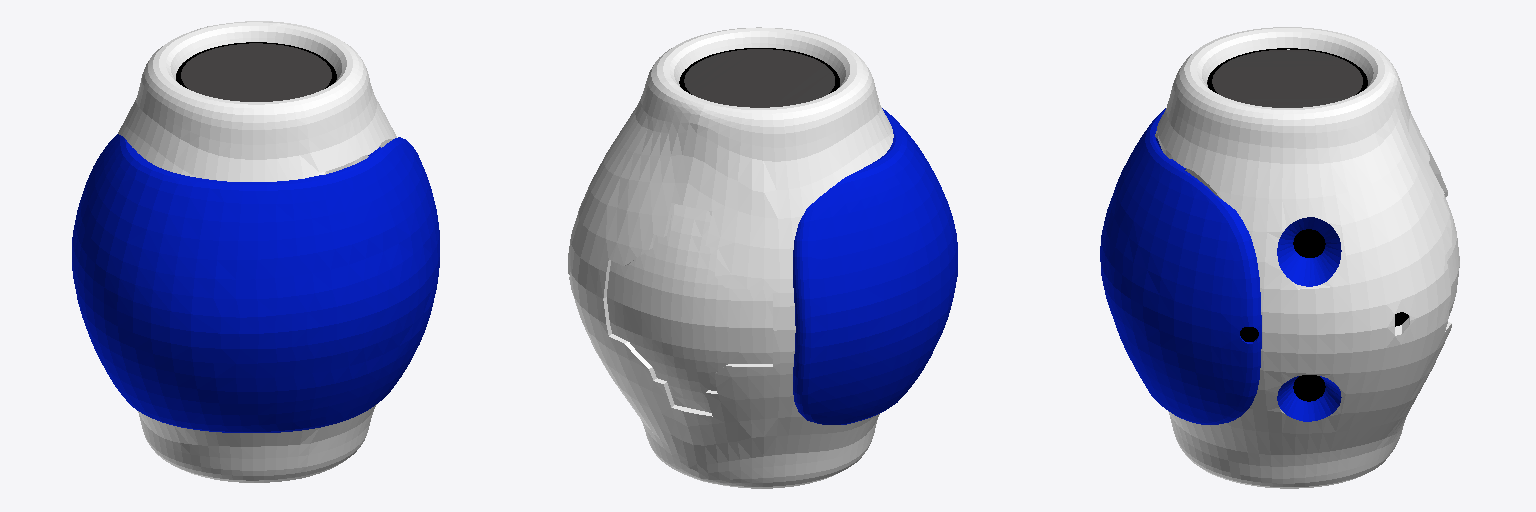
3 views of the same model, side by side, from view 1: azimuth 30°, elevation 25°; view 2: azimuth 150°, elevation 25°; view 3: azimuth 270°, elevation 25° (orthographic).
Parts seen in each view (by area): view 1: HeadPitch_Head; view 2: HeadPitch_Head; view 3: HeadPitch_Head.
Part boxes in pixels (x1,y1,x2,y2): HeadPitch_Head: (72, 21, 439, 482); HeadPitch_Head: (568, 27, 957, 488); HeadPitch_Head: (1100, 27, 1459, 488).
Size of the model in its own units: 1.19 by 1.33 by 1.14.
Materials: 1 (1 with a texture image).